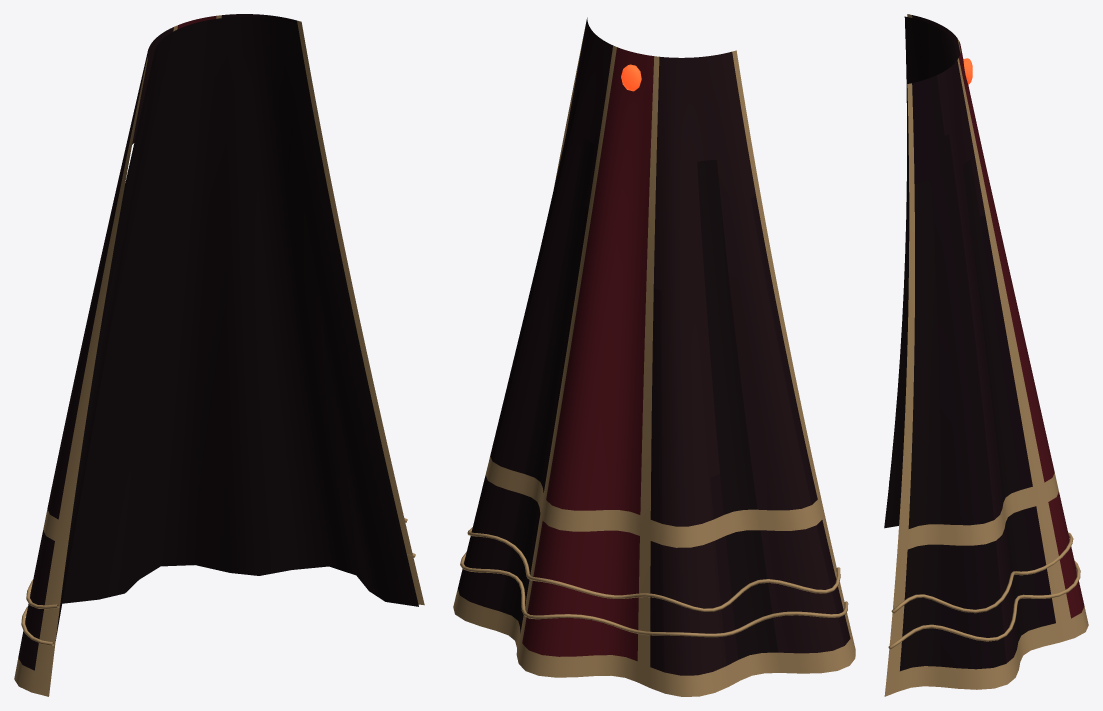
File: c_dragonknight_dark.glb
3 views of the same model, side by side, from view 1: azimuth 30°, elevation 25°; view 2: azimuth 150°, elevation 25°; view 3: azimuth 270°, elevation 25° (orthographic). The views are drawn at different scales.
Visible parts, largest first — view 1: ClothMesh; view 2: ClothMesh; view 3: ClothMesh.
Boxes of the visible parts, box(x1,y1,x2,y2) form: ClothMesh: box(14, 14, 424, 696); ClothMesh: box(453, 17, 855, 696); ClothMesh: box(884, 14, 1088, 696).
Bounding box in the file's own units: 0.7823 × 1.16 × 0.3826.
